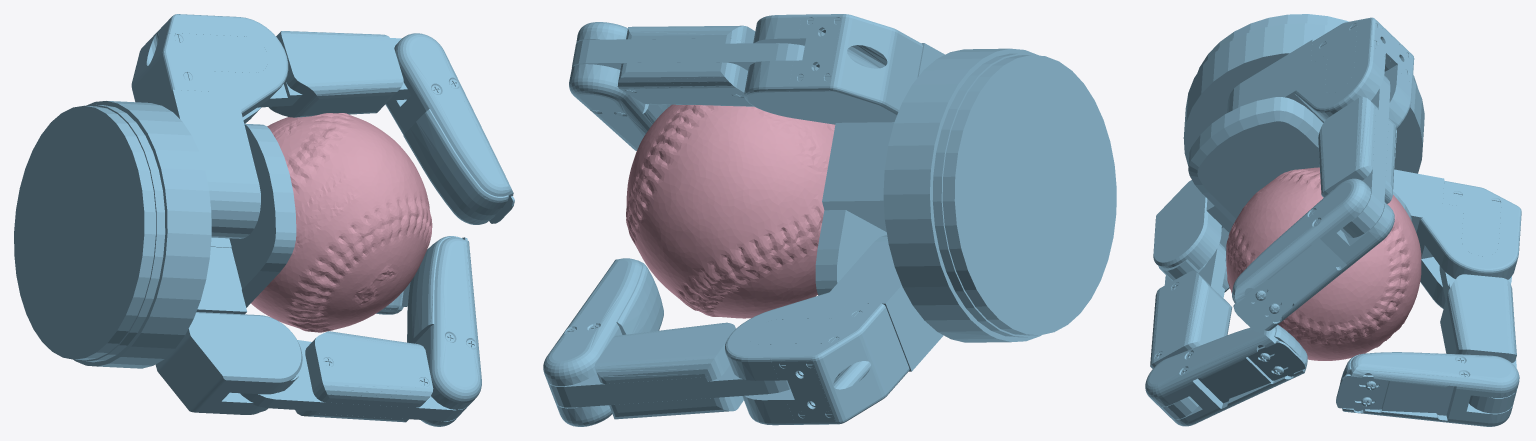
The model's file is Barrett_ycb+baseball_mesh.glb.
The picture shows the model from 3 angles, left to right: view 1: azimuth 30°, elevation 25°; view 2: azimuth 150°, elevation 25°; view 3: azimuth 270°, elevation 25°; orthographic projection. The views are drawn at different scales.
Visible parts, largest first — view 1: world; view 2: world; view 3: world.
Boxes of the visible parts, x1,y1,x2,y2 form: world: [14, 14, 514, 426]; world: [543, 14, 1116, 426]; world: [1145, 14, 1521, 426].
Bounding box in the file's own units: 0.1636 × 0.1372 × 0.1399.
